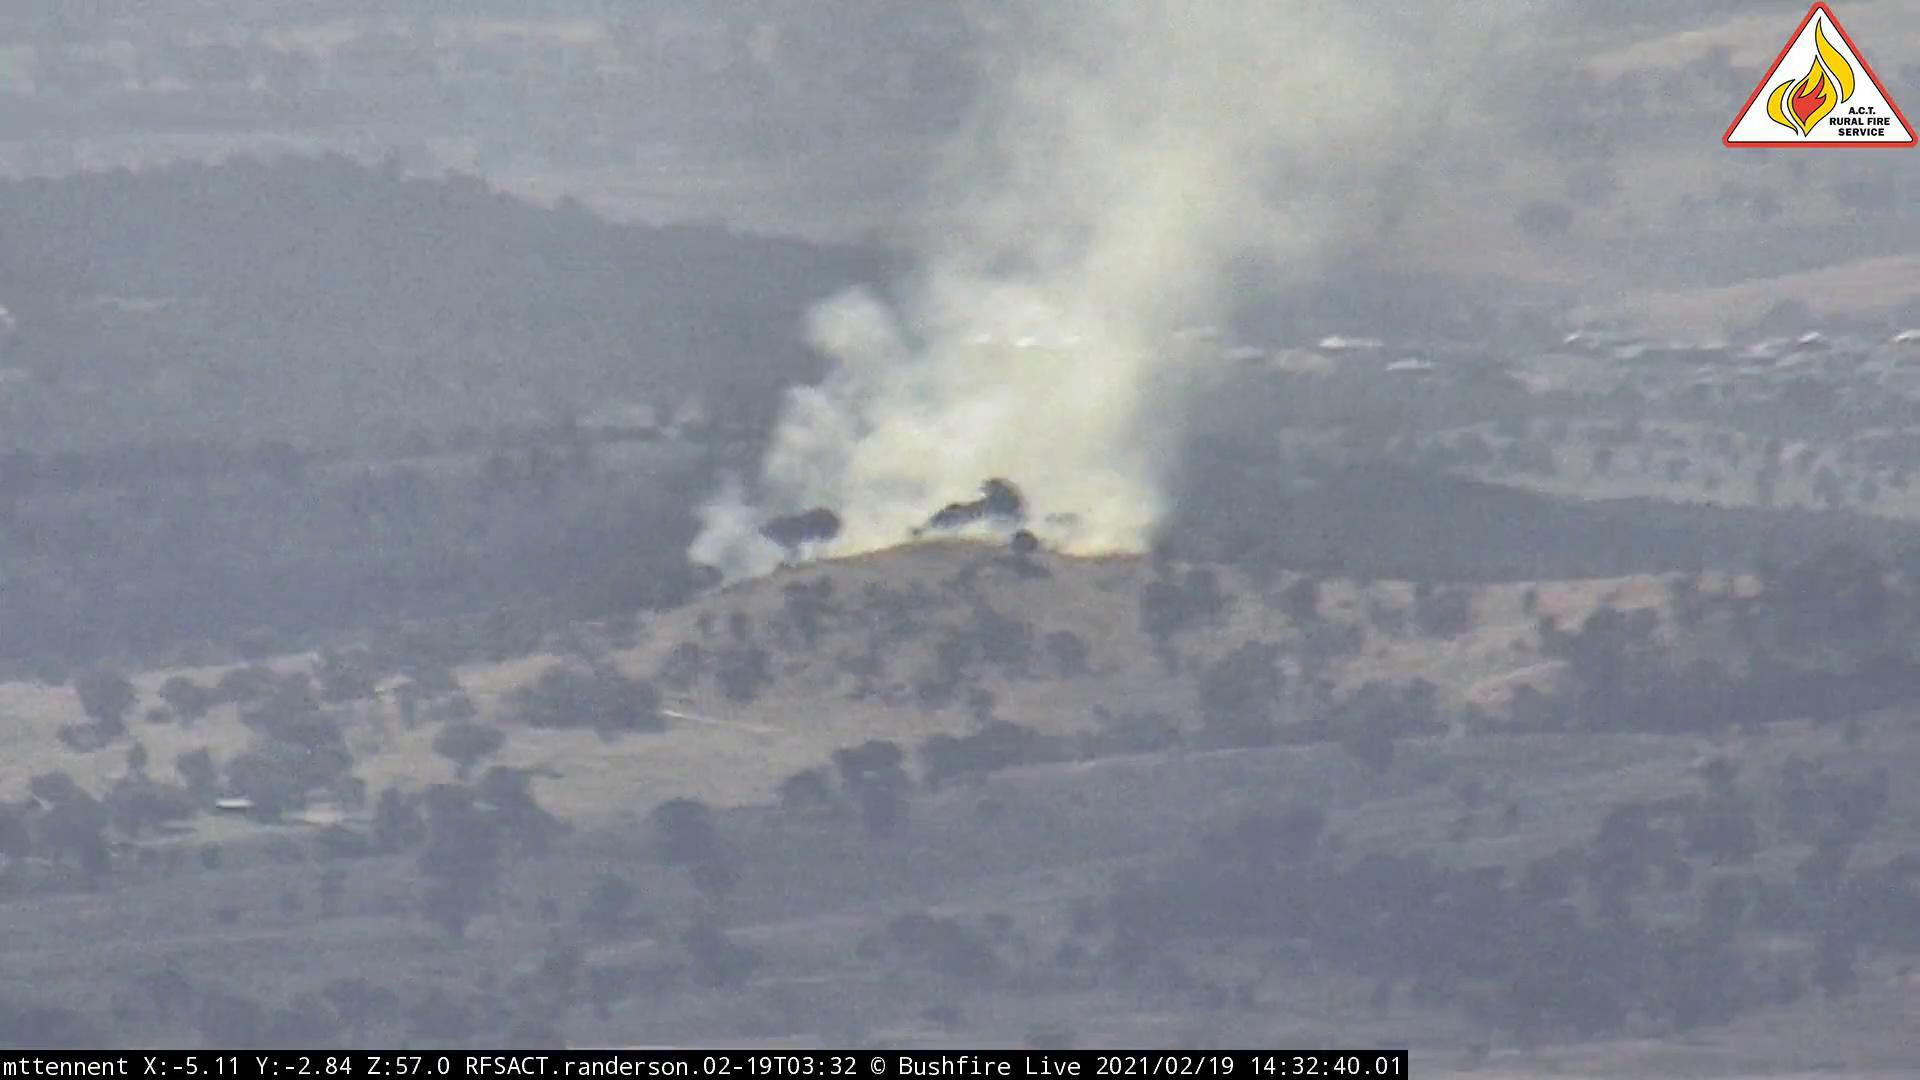Smoke: (675, 13, 1469, 593)
